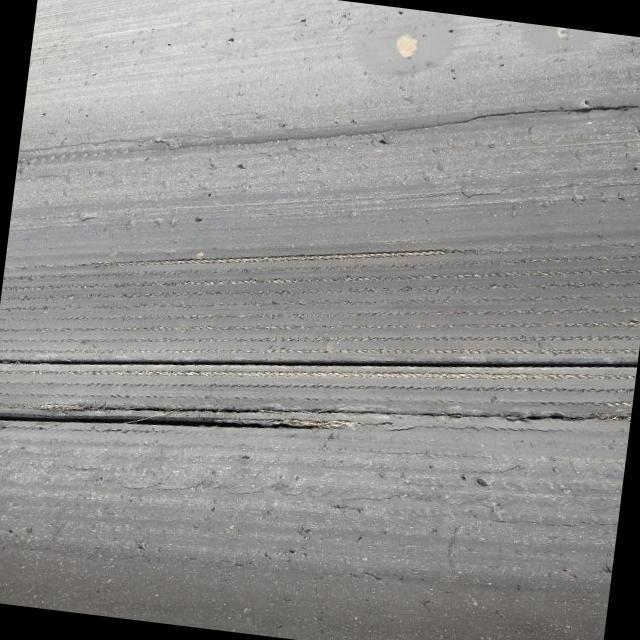Tear: (0, 348, 639, 373), (422, 92, 640, 138), (0, 409, 329, 437), (426, 402, 638, 429)
Wear: (0, 239, 639, 356)
